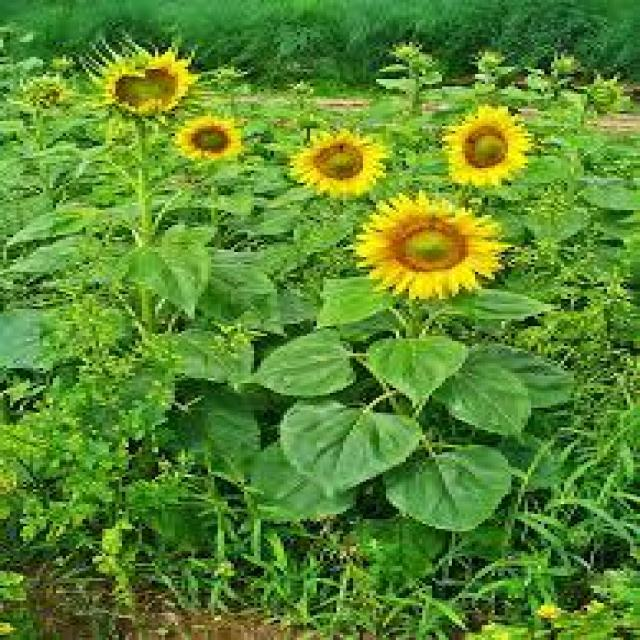organic waste: (356, 196, 498, 293), (90, 39, 200, 122), (435, 102, 541, 186), (277, 125, 386, 196), (157, 101, 252, 166)
